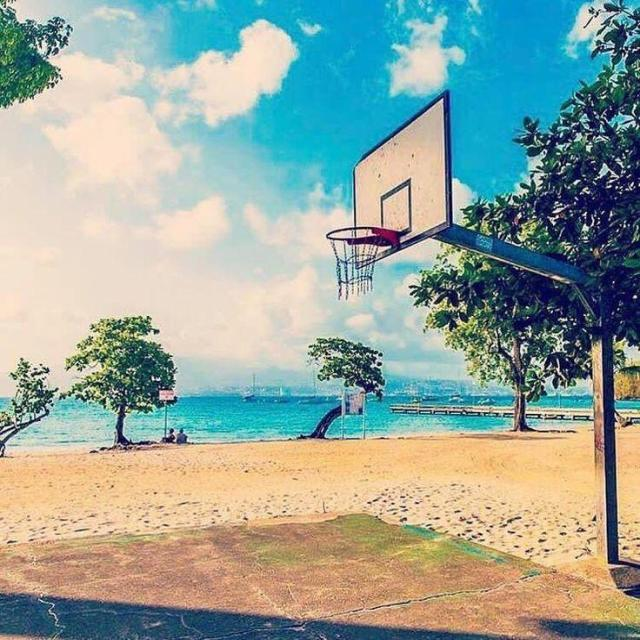hoop: (309, 211, 413, 299)
